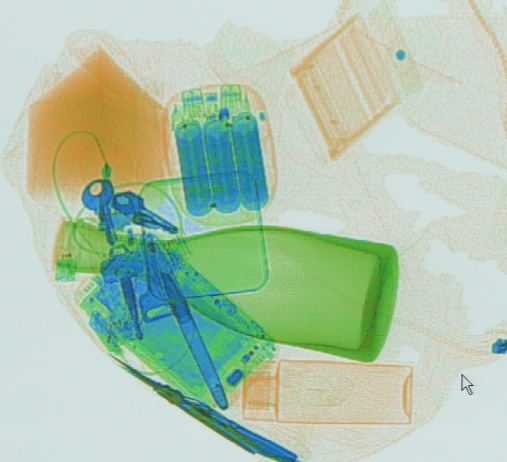knife: (89, 337, 307, 459)
powerbank: (163, 82, 282, 221)
